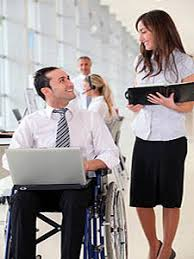wheelchair: (4, 67, 127, 259)
